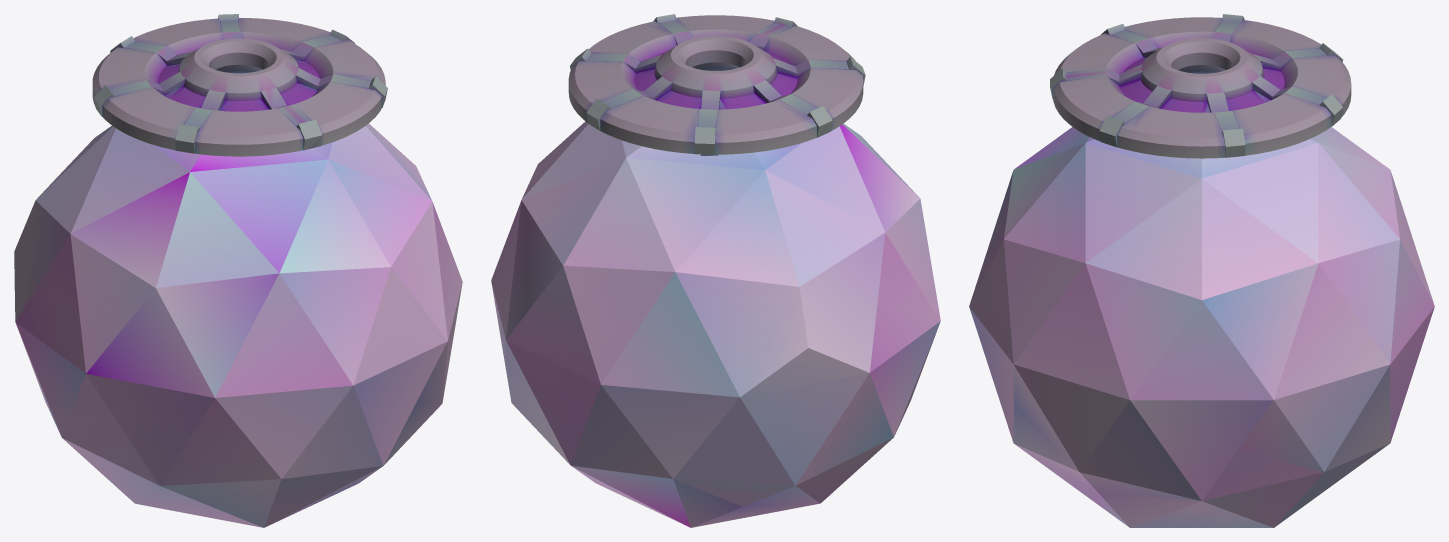
The picture shows the model from 3 angles, left to right: view 1: azimuth 30°, elevation 25°; view 2: azimuth 150°, elevation 25°; view 3: azimuth 270°, elevation 25°; orthographic projection.
Parts seen in each view (by area): view 1: faceted_body, cap_shell; view 2: faceted_body, cap_shell; view 3: faceted_body, cap_shell.
Boxes of the visible parts, box(x1,y1,x2,y2) form: faceted_body: box(14, 123, 462, 527); cap_shell: box(92, 14, 387, 156); faceted_body: box(491, 121, 940, 527); cap_shell: box(568, 14, 865, 155); faceted_body: box(969, 127, 1434, 527); cap_shell: box(1050, 14, 1351, 158).
Size of the model in its own units: 1.04 by 1.19 by 1.09.
